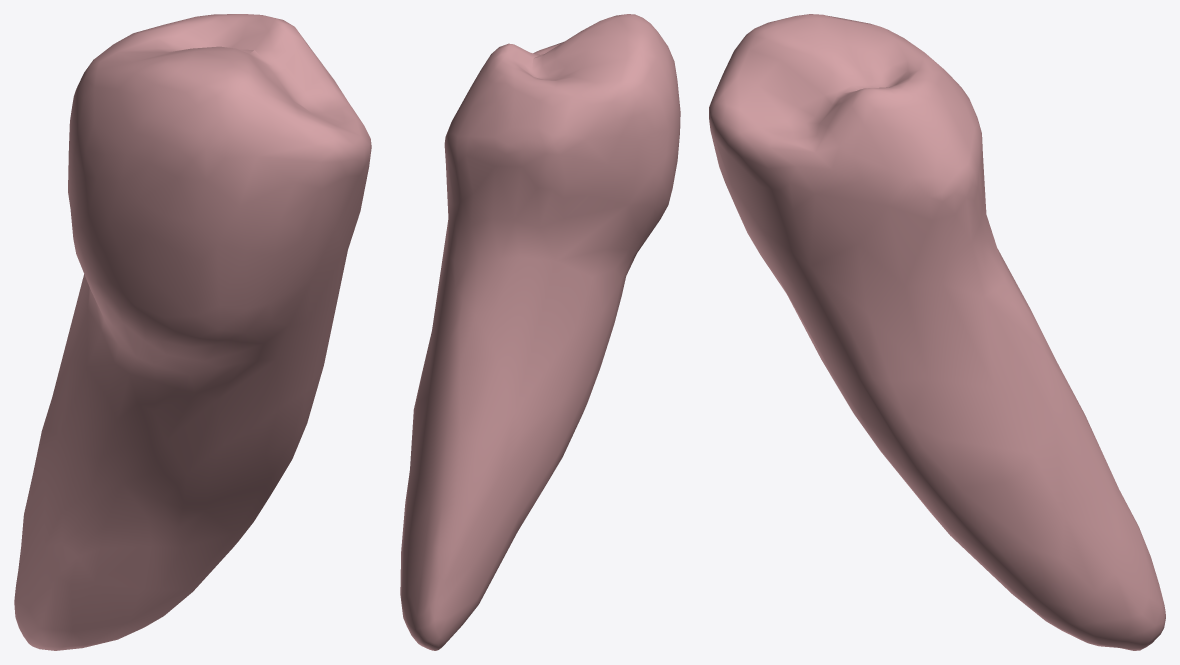
File: fma55694_mm818m.glb
The picture shows the model from 3 angles, left to right: view 1: azimuth 30°, elevation 25°; view 2: azimuth 150°, elevation 25°; view 3: azimuth 270°, elevation 25°; orthographic projection. The views are drawn at different scales.
Visible parts, largest first — view 1: FMA55694_MM818M; view 2: FMA55694_MM818M; view 3: FMA55694_MM818M.
Boxes of the visible parts, <box> form: FMA55694_MM818M: <box>14,14,371,650</box>; FMA55694_MM818M: <box>400,14,680,650</box>; FMA55694_MM818M: <box>709,14,1165,650</box>.
Bounding box in the file's own units: 0.00734 × 0.0197 × 0.0136.
